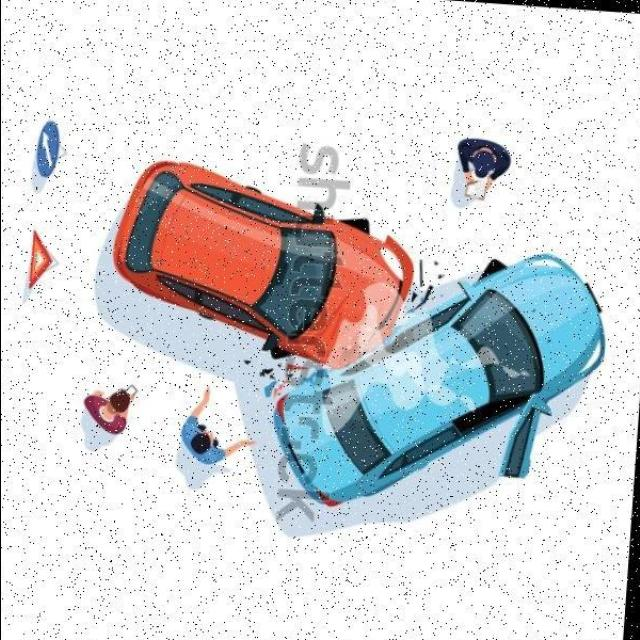accident: (106, 127, 640, 477)
